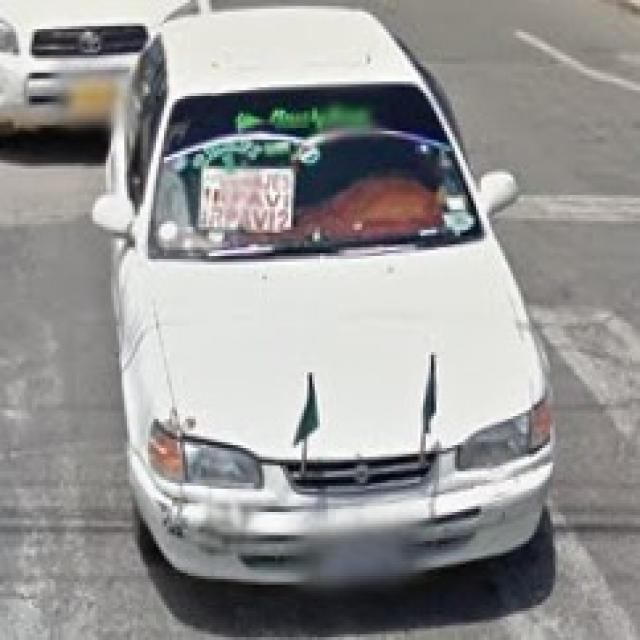cars: (97, 0, 554, 585)
